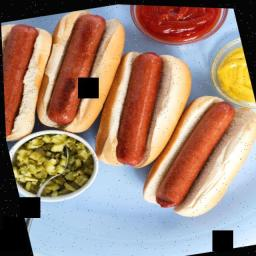hotdog: (108, 80, 256, 218), (78, 38, 218, 180), (23, 1, 158, 140), (0, 13, 76, 147)
